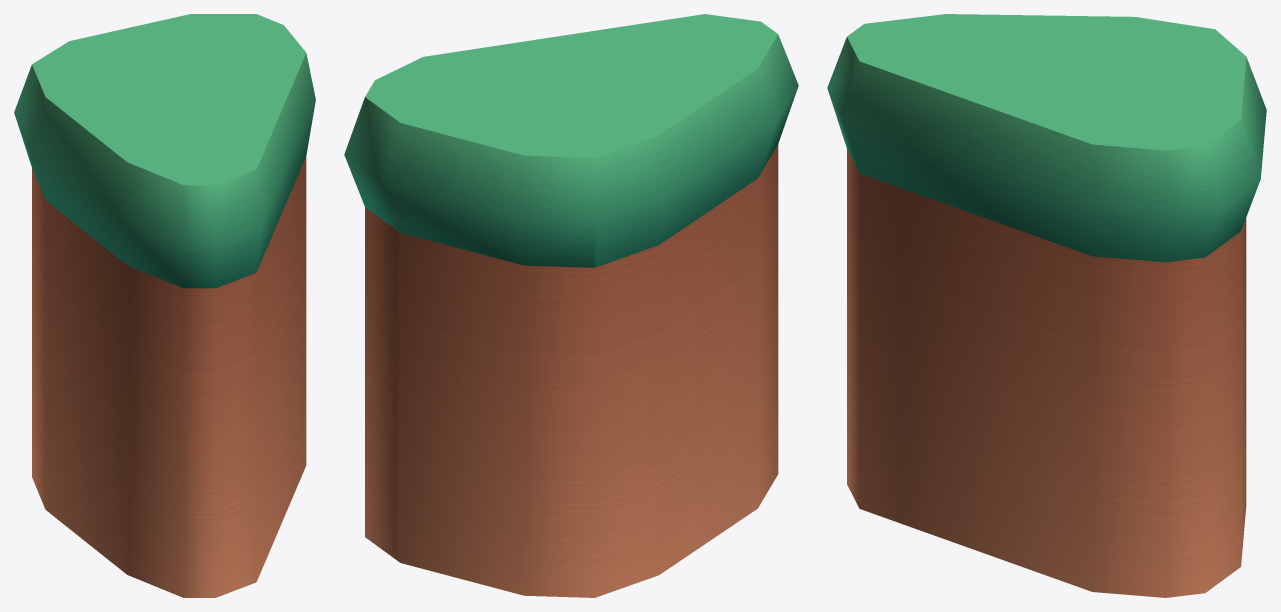
File: block-grass-corner.006_lev2.glb
The picture shows the model from 3 angles, left to right: view 1: azimuth 30°, elevation 25°; view 2: azimuth 150°, elevation 25°; view 3: azimuth 270°, elevation 25°; orthographic projection. The views are drawn at different scales.
Parts seen in each view (by area): view 1: block-grass-corner.006_lev2; view 2: block-grass-corner.006_lev2; view 3: block-grass-corner.006_lev2.
Part boxes in pixels (x1,y1,x2,y2): block-grass-corner.006_lev2: (14,14,315,597); block-grass-corner.006_lev2: (344,14,798,597); block-grass-corner.006_lev2: (827,14,1266,597).
Bounding box in the file's own units: 3.25 × 4.52 × 4.02.
Materials: 1 (1 with a texture image).
